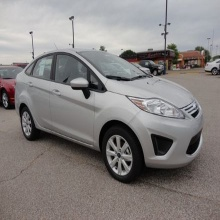no damage: (14, 49, 204, 183)
